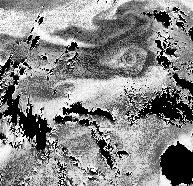CE: (116, 46, 144, 73)
